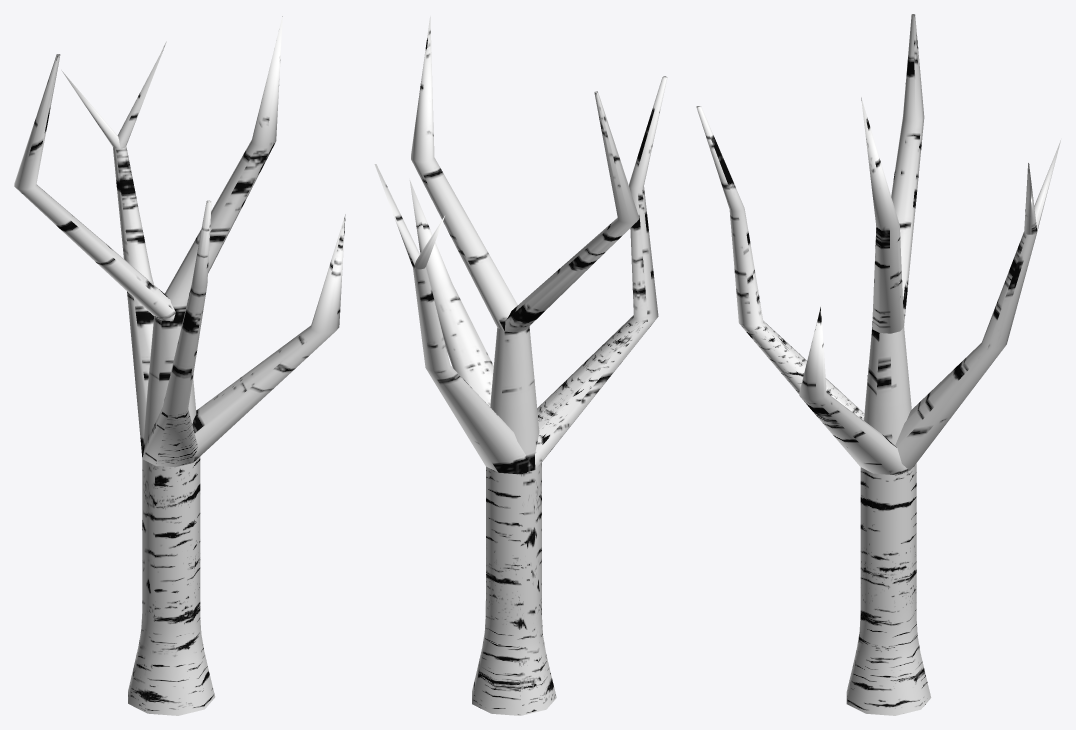
The model's file is birch_trunk.fbx.
3 views of the same model, side by side, from view 1: azimuth 30°, elevation 25°; view 2: azimuth 150°, elevation 25°; view 3: azimuth 270°, elevation 25° (orthographic). The views are drawn at different scales.
Parts seen in each view (by area): view 1: Trunk; view 2: Trunk; view 3: Trunk.
Boxes of the visible parts, x1,y1,x2,y2 form: Trunk: (14,15,345,715); Trunk: (374,16,667,715); Trunk: (696,14,1060,715).
Bounding box in the file's own units: 10.95 × 24.78 × 12.64.
